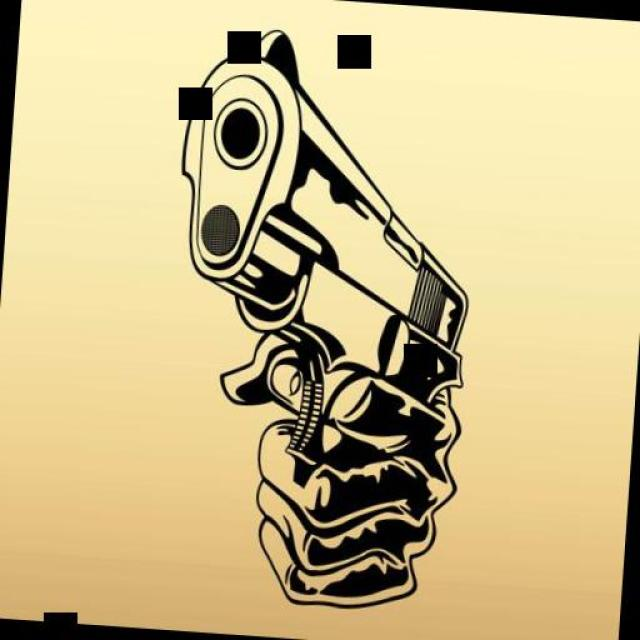gun: (149, 0, 491, 614)
